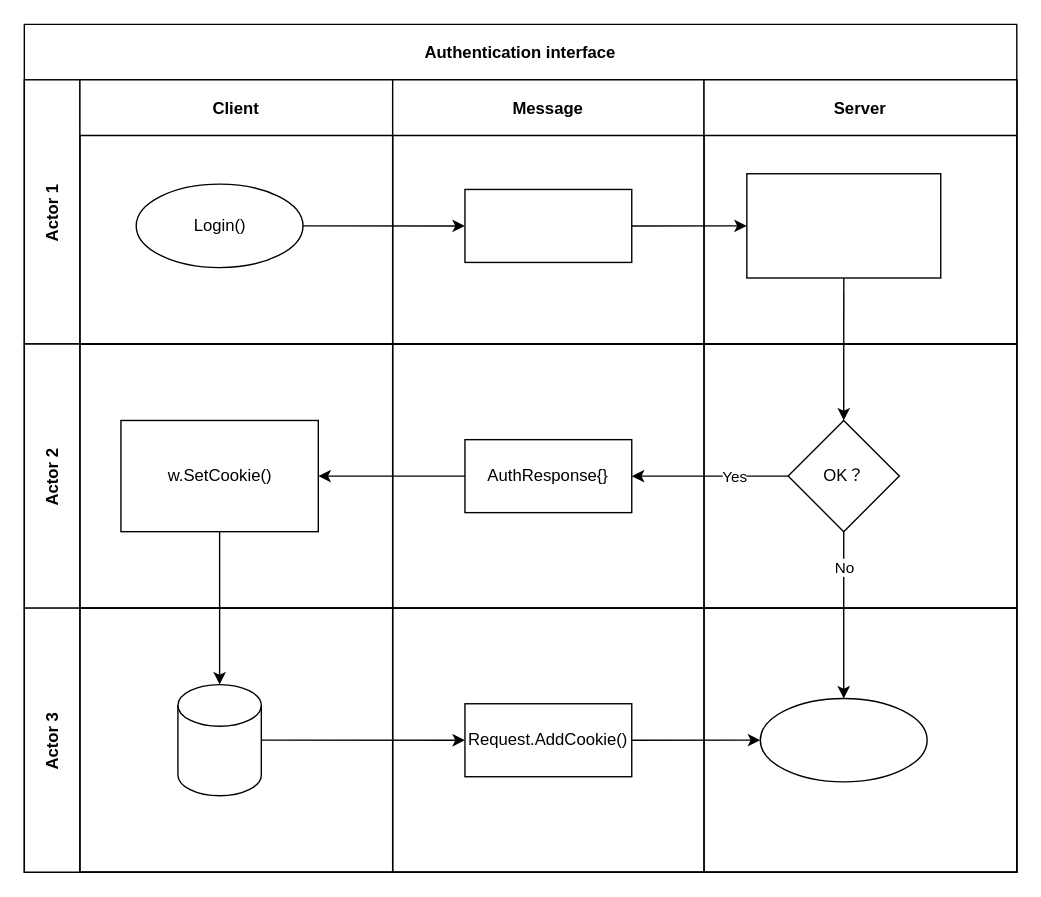
Some shapes in this 1041 by 897 pixel diagram are drawn without their labels. The centre of each missing label's shape, as x and y in pixels:
"AuthRequest{}" goes at [548,225].
"End()" goes at [843,739].
"Store" goes at [219,739].
"Validate（AuthReq）" goes at [843,225].
